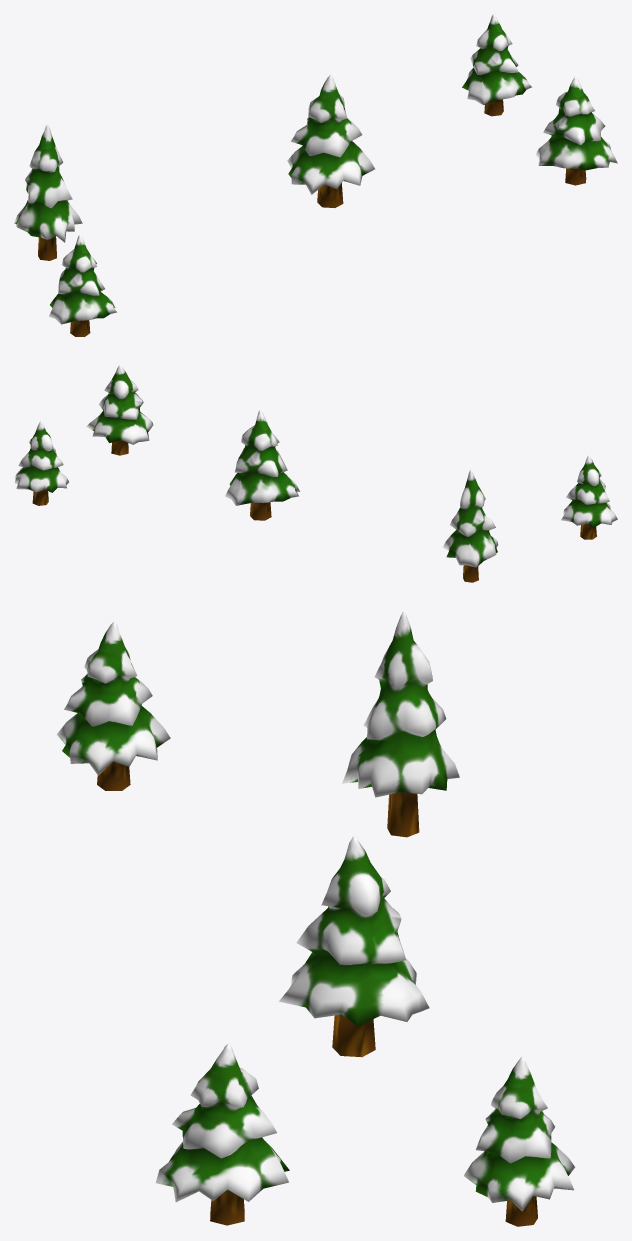
The model's file is pineTrees.glb.
3 views of the same model, one above another, from view 1: azimuth 30°, elevation 25°; view 2: azimuth 150°, elevation 25°; view 3: azimuth 270°, elevation 25° (orthographic). The views are drawn at different scales.
Visible parts, largest first — view 1: Plane.004; view 2: Plane.004; view 3: Plane.004.
Boxes of the visible parts, x1,y1,x2,y2 form: Plane.004: [14, 14, 617, 336]; Plane.004: [14, 365, 617, 582]; Plane.004: [57, 611, 575, 1226].
Bounding box in the file's own units: 17.54 × 3.72 × 7.93.
1 material, 1 textured.
